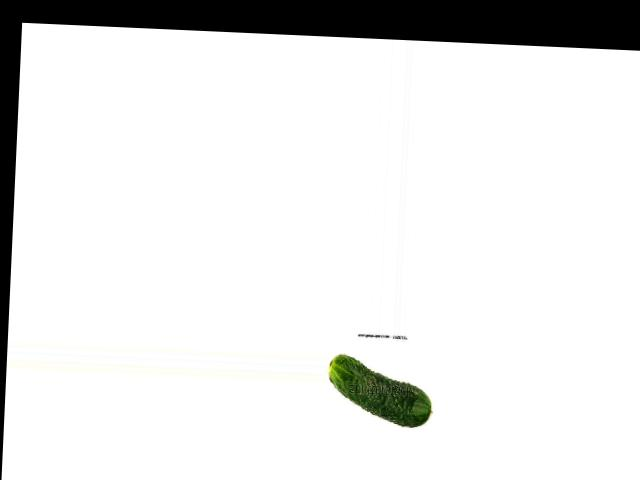cucumber: (327, 353, 434, 428)
